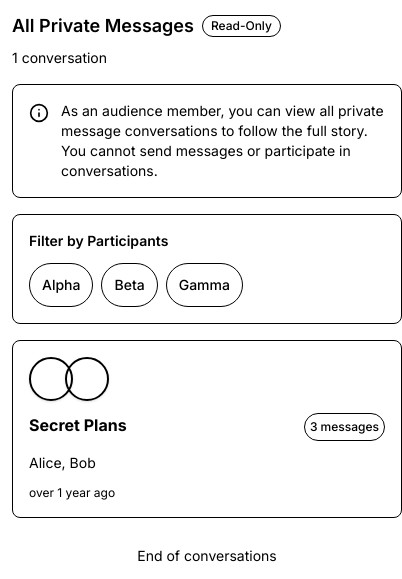
it: AllPrivateMessagesView - URL sync › selecting a conversation card sets the audienceConversation param
The image size is (402, 579).
Click the heading "Secret Plans".
click(78, 425)  # box [29, 413, 127, 437]
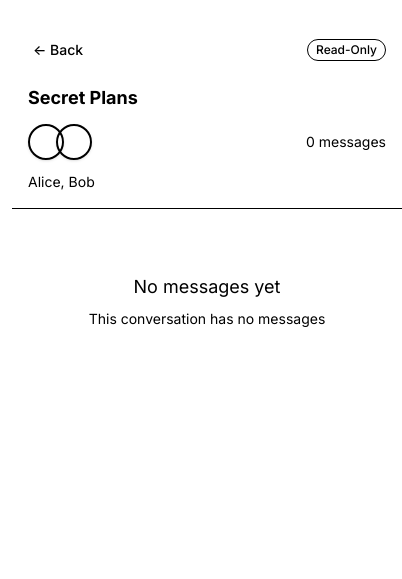
expect the button "← Back" is shown: met, box [28, 28, 88, 72]
